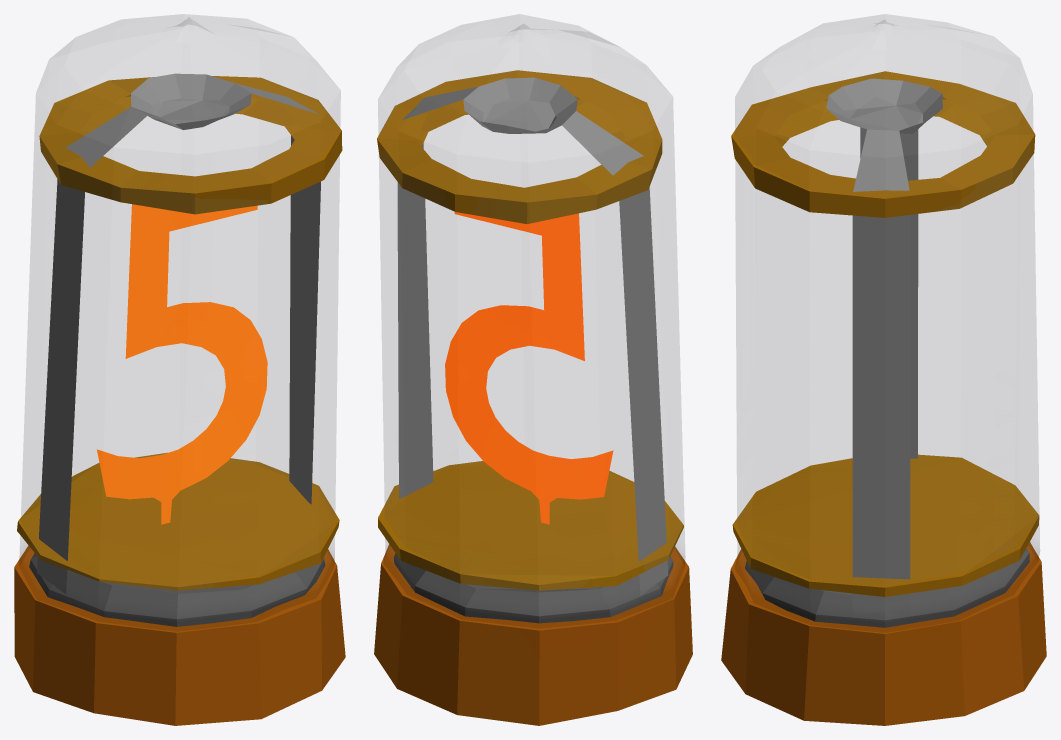
Rendered from SteamPunk_Number_05.glb.
3 views of the same model, side by side, from view 1: azimuth 30°, elevation 25°; view 2: azimuth 150°, elevation 25°; view 3: azimuth 270°, elevation 25° (orthographic). The views are drawn at different scales.
Visible parts, largest first — view 1: SteamPank_Number_05; view 2: SteamPank_Number_05; view 3: SteamPank_Number_05.
Part boxes in pixels (bbox=[...]): SteamPank_Number_05: bbox=[14, 14, 345, 725]; SteamPank_Number_05: bbox=[374, 14, 692, 725]; SteamPank_Number_05: bbox=[721, 14, 1046, 725].
Size of what is drawn, in the model's own units: 0.4333 by 0.923 by 0.4219.
Materials: 2 (2 with a texture image).
